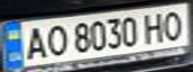0: (118, 14, 142, 47), (87, 17, 109, 52)
3: (106, 16, 127, 50)
8: (69, 19, 93, 54)
A: (18, 24, 51, 61)
H: (139, 10, 169, 44)
O: (157, 8, 190, 42), (42, 21, 69, 57)
